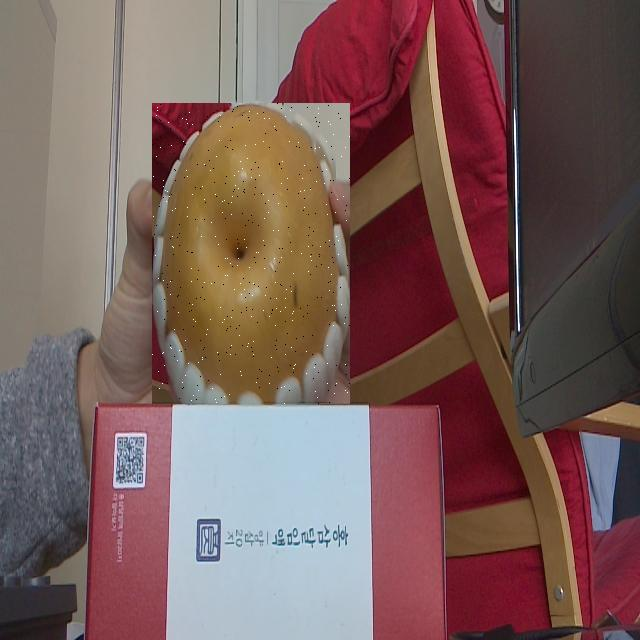pear: (152, 103, 350, 404)
